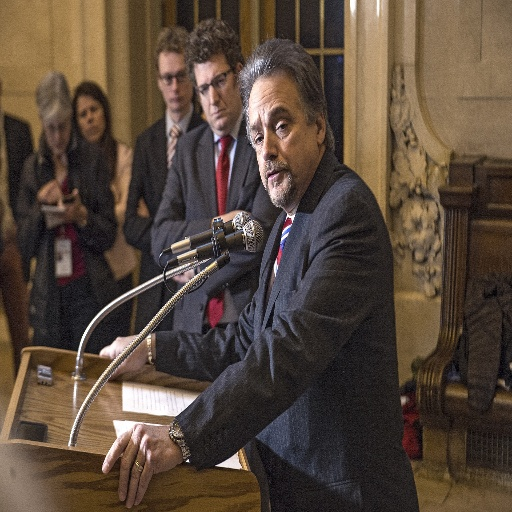hand: (97, 417, 176, 493), (100, 332, 148, 382), (54, 185, 85, 227), (37, 177, 65, 207), (219, 207, 245, 226), (174, 265, 198, 280), (135, 195, 151, 217)
